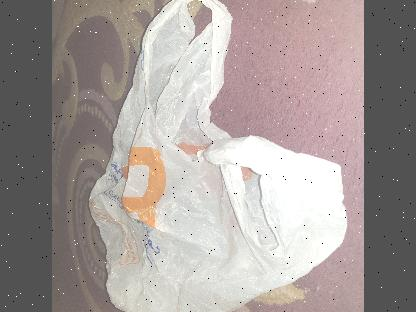Others: (89, 0, 346, 312)
